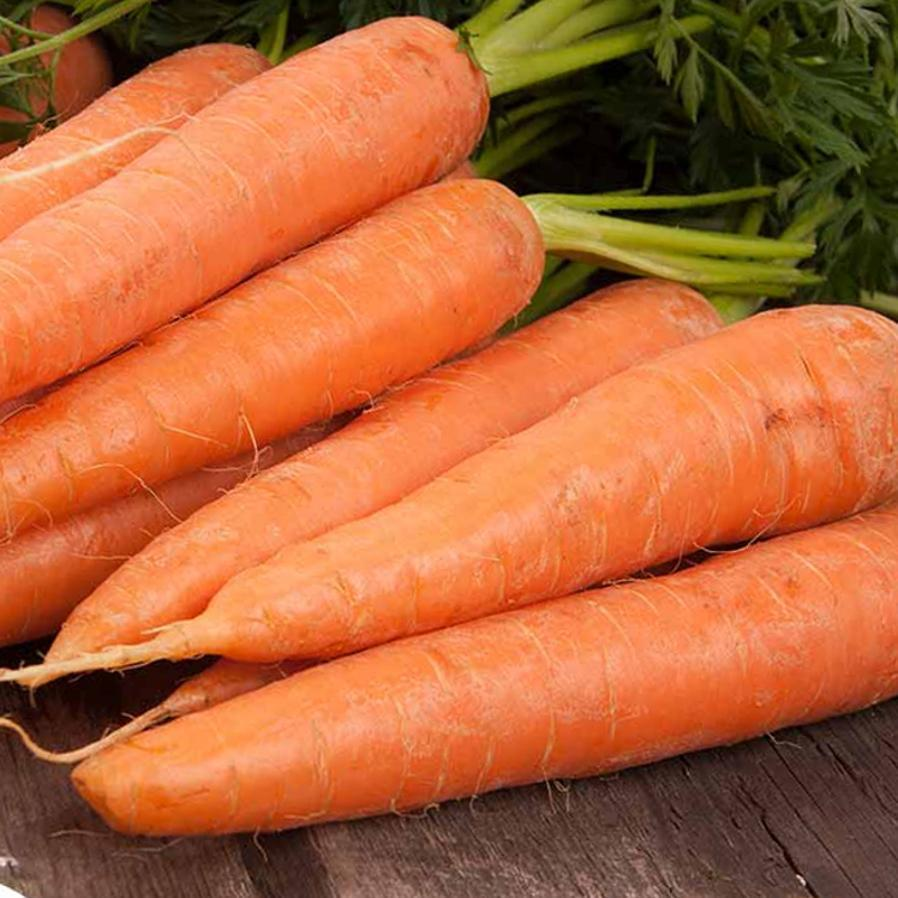carrot: (133, 304, 898, 815), (0, 31, 523, 468)
